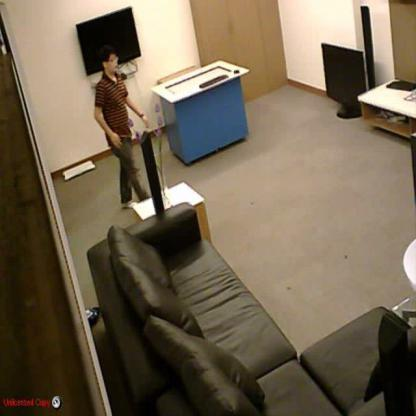Person: (94, 48, 150, 209)
